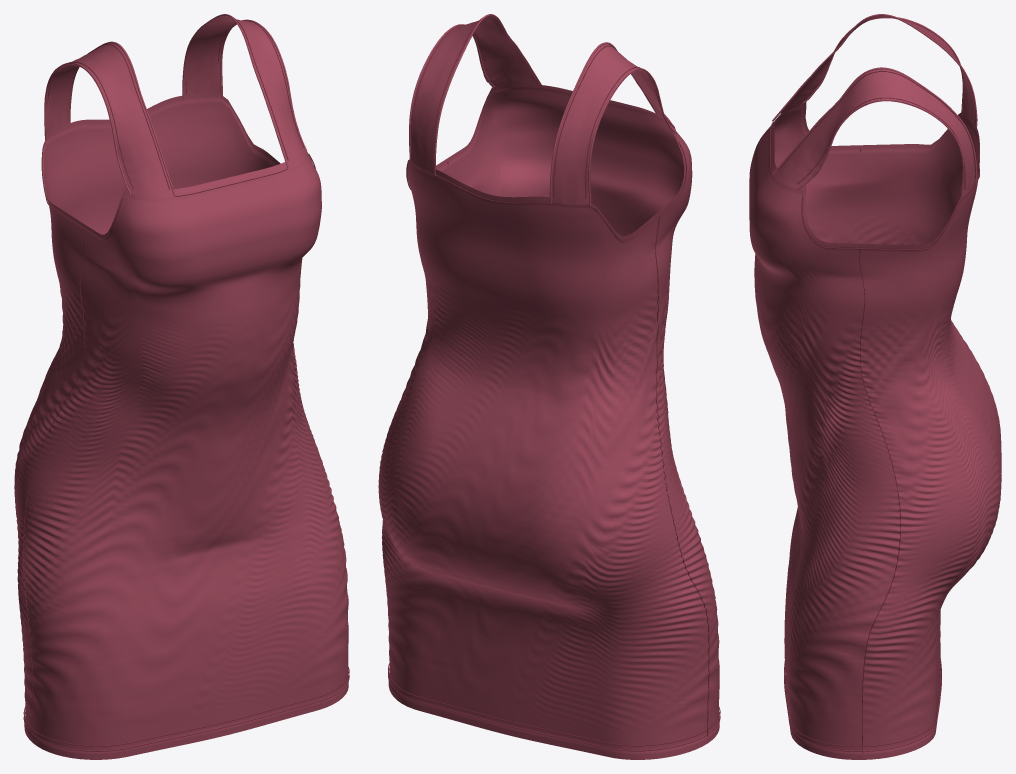
Rendered from vestido-mini-plisado_L.glb.
3 renders of one model, left to right at view 1: azimuth 30°, elevation 25°; view 2: azimuth 150°, elevation 25°; view 3: azimuth 270°, elevation 25°, orthographic. The views are drawn at different scales.
Visible parts, largest first — view 1: vestido, tirante (×2), pespunte (×3), tirante-borde (×2); view 2: vestido, tirante (×2), pespunte (×3), tirante-borde (×2); view 3: vestido, tirante (×2), tirante-borde (×3), pespunte.
Boxes of the visible parts, left/top/right/bottom form: vestido: left=14, top=93, right=348, bottom=759; tirante (×2): left=44, top=14, right=305, bottom=198; pespunte (×3): left=22, top=226, right=349, bottom=751; tirante-borde (×2): left=44, top=14, right=288, bottom=194; vestido: left=378, top=84, right=719, bottom=759; tirante (×2): left=410, top=14, right=675, bottom=205; pespunte (×3): left=388, top=214, right=720, bottom=751; tirante-borde (×2): left=434, top=14, right=677, bottom=205; vestido: left=749, top=102, right=1001, bottom=759; tirante (×2): left=773, top=14, right=976, bottom=198; tirante-borde (×3): left=772, top=14, right=977, bottom=198; pespunte: left=859, top=247, right=900, bottom=753.
Size of the model in its own units: 0.3956 by 0.813 by 0.2872.
